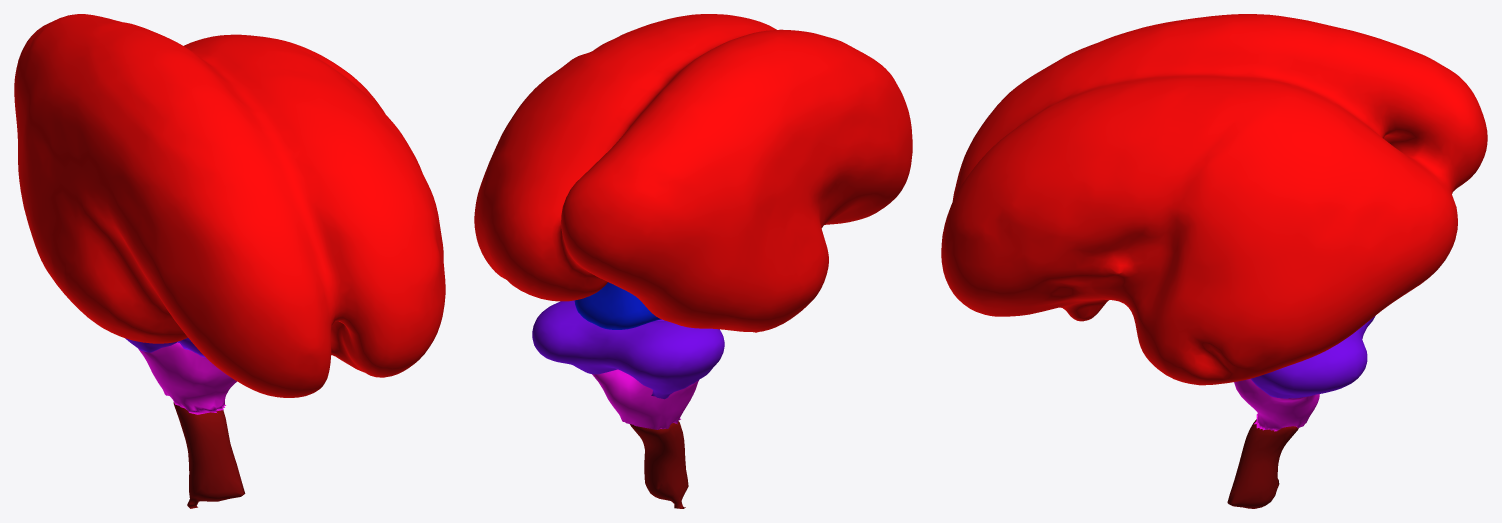
File: 13pcw_brain.glb
The picture shows the model from 3 angles, left to right: view 1: azimuth 30°, elevation 25°; view 2: azimuth 150°, elevation 25°; view 3: azimuth 270°, elevation 25°; orthographic projection. The views are drawn at different scales.
Visible parts, largest first — view 1: 13pcw_N2117_cortex, 13pcw_N2117_sp_cord, 13pcw_N2117_medulla; view 2: 13pcw_N2117_cortex, 13pcw_N2117_cerebellum, 13pcw_N2117_medulla, 13pcw_N2117_sp_cord, 13pcw_N2117_midbrain; view 3: 13pcw_N2117_cortex, 13pcw_N2117_cerebellum, 13pcw_N2117_sp_cord, 13pcw_N2117_medulla.
Boxes of the visible parts, x1,y1,x2,y2 form: 13pcw_N2117_cortex: (14,14,445,397); 13pcw_N2117_sp_cord: (173,402,245,508); 13pcw_N2117_medulla: (138,342,236,414); 13pcw_N2117_cortex: (474,14,912,332); 13pcw_N2117_cerebellum: (532,300,724,399); 13pcw_N2117_medulla: (592,369,698,429); 13pcw_N2117_sp_cord: (630,421,688,508); 13pcw_N2117_midbrain: (574,282,661,329); 13pcw_N2117_cortex: (941,14,1487,385); 13pcw_N2117_cerebellum: (1251,315,1375,398); 13pcw_N2117_sp_cord: (1227,419,1298,508); 13pcw_N2117_medulla: (1234,379,1319,431).
Bounding box in the file's own units: 126 × 171 × 184.
